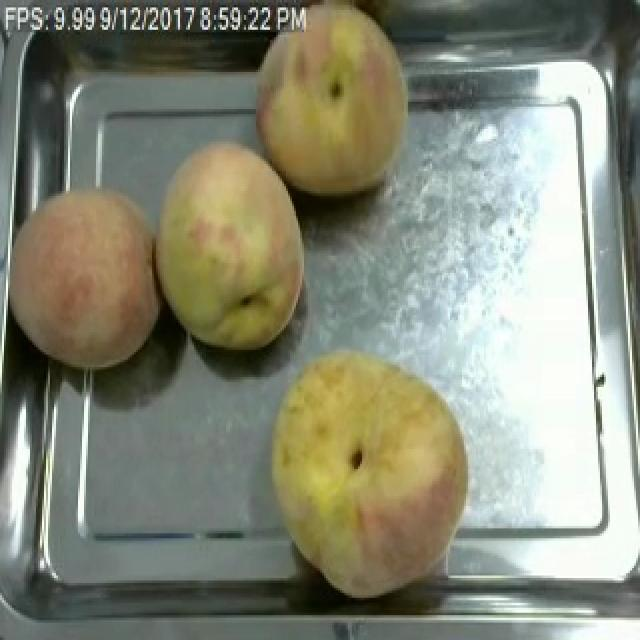Fruit: (262, 340, 480, 608), (146, 134, 314, 360), (244, 0, 420, 208), (8, 173, 170, 374)
